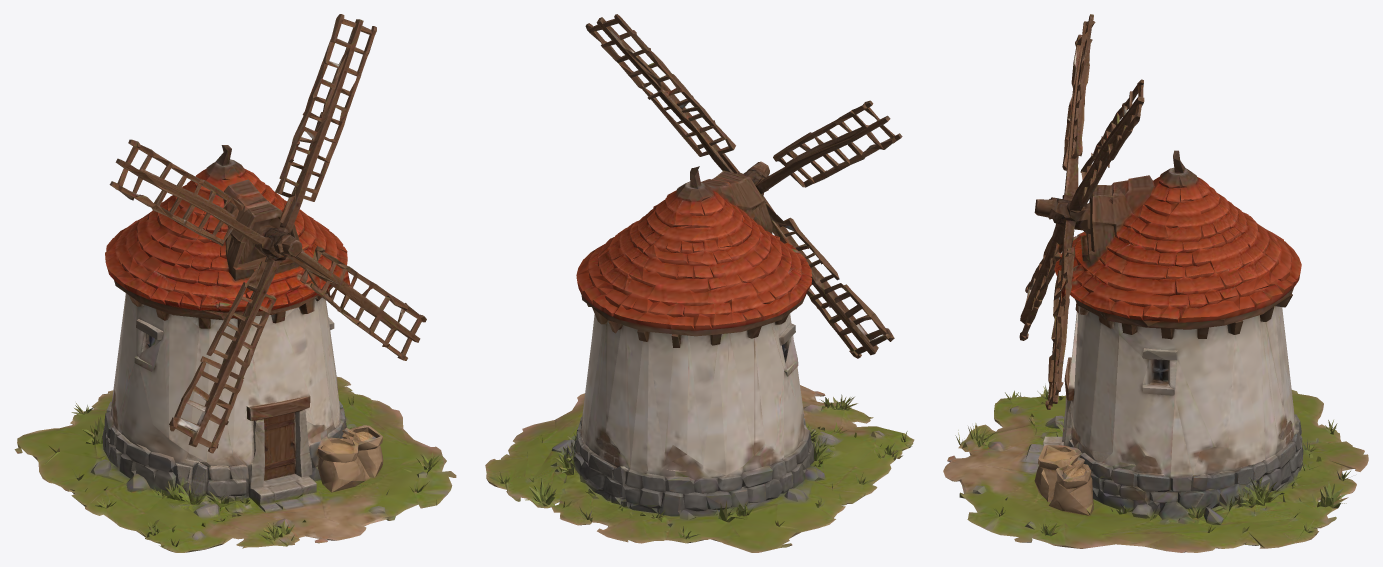
File: farmmill.glb
3 views of the same model, side by side, from view 1: azimuth 30°, elevation 25°; view 2: azimuth 150°, elevation 25°; view 3: azimuth 270°, elevation 25° (orthographic). The views are drawn at different scales.
Bounding box in the file's own units: 1.56 × 1.9 × 1.68.
Materials: 1 (1 with a texture image).
